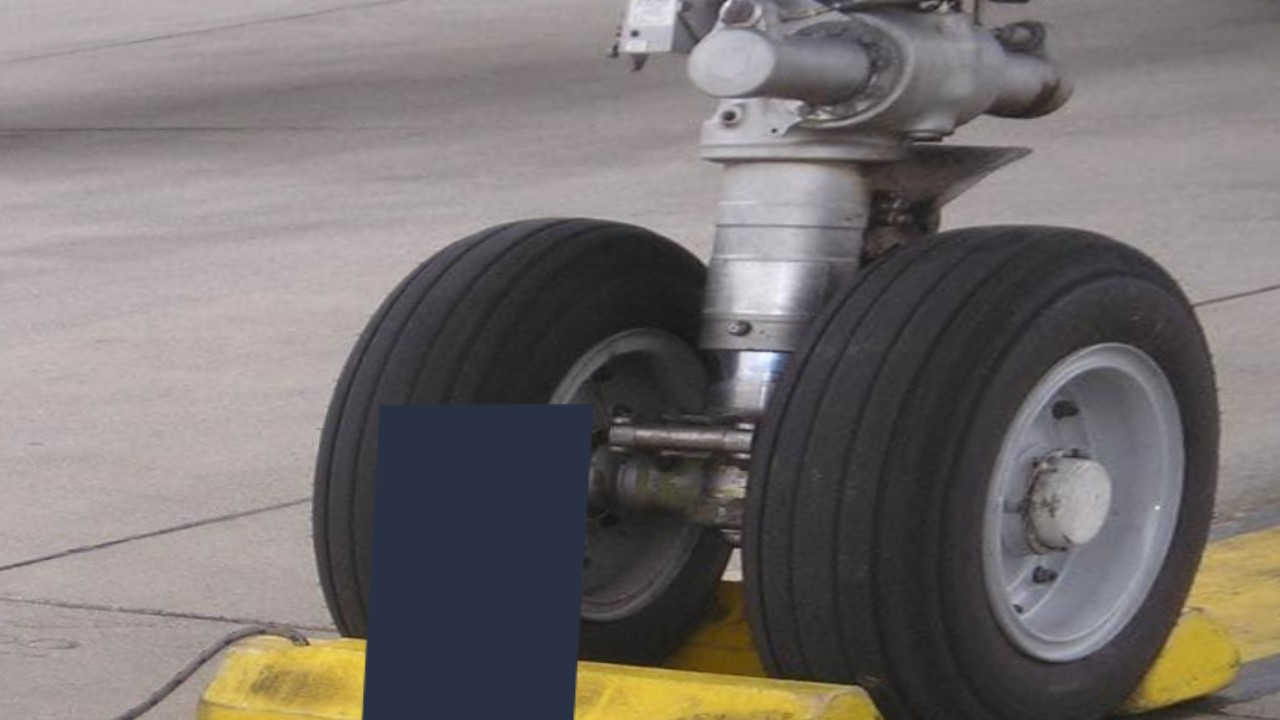chock: (198, 629, 911, 720)
wheel: (743, 219, 1242, 720), (300, 211, 744, 668)
